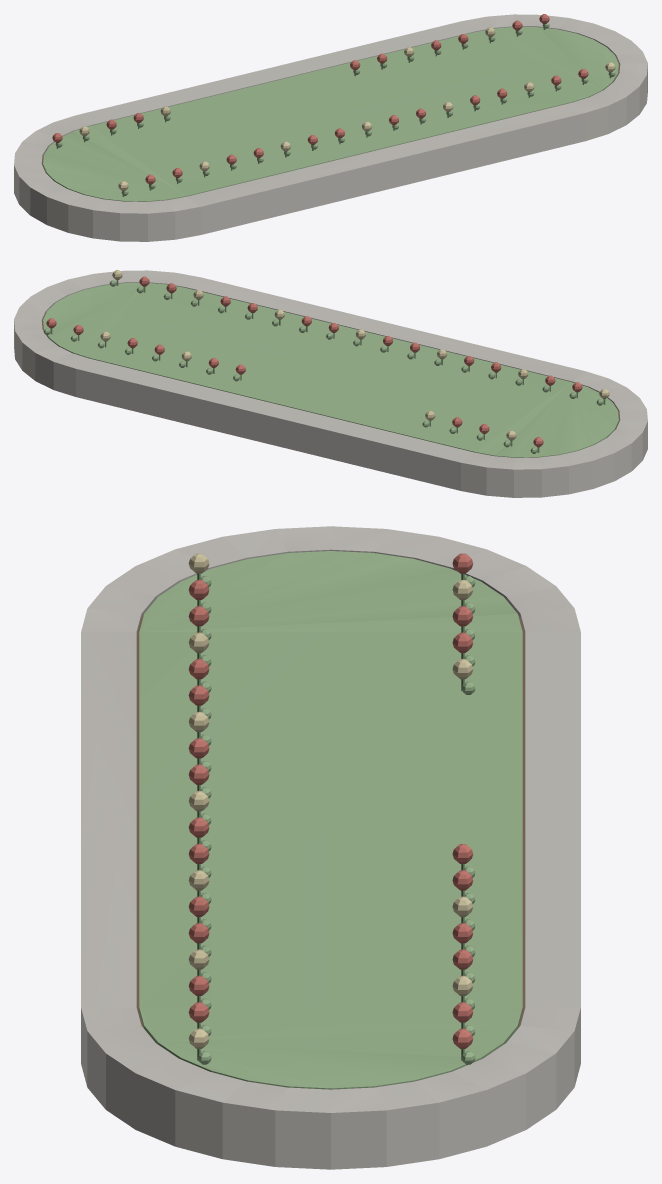
File: plaza_garden_long_bare_autumn.glb
3 views of the same model, one above another, from view 1: azimuth 30°, elevation 25°; view 2: azimuth 150°, elevation 25°; view 3: azimuth 270°, elevation 25° (orthographic). The views are drawn at different scales.
Size of the model in its own units: 10 by 0.695 by 3.6.
